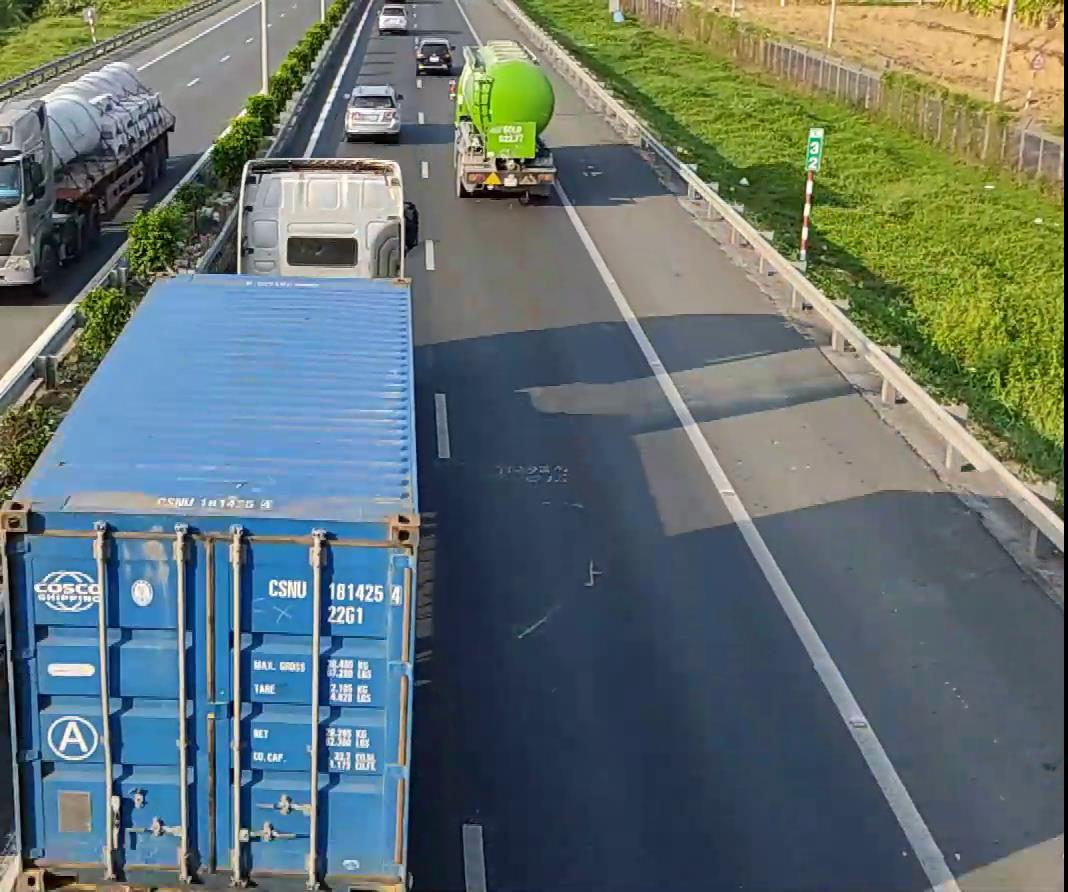container: (6, 155, 416, 886), (0, 68, 175, 296), (449, 39, 556, 200)
